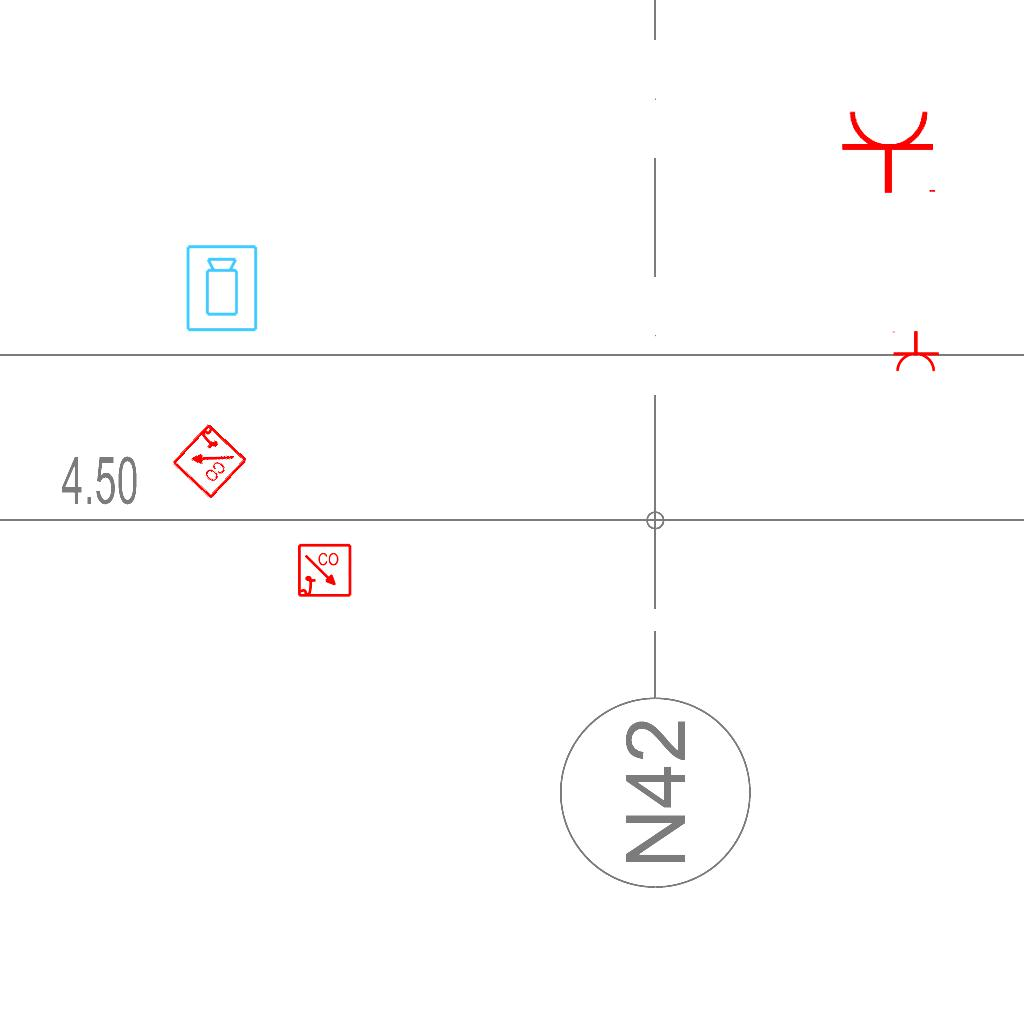KFO_Kamera_mit_Festobjektiv: (184, 243, 261, 334)
ROA_Rauchmelder_optisch_mit_Signalgeber_(Sockelsirene): (169, 421, 249, 501), (297, 543, 353, 599)
Schukosteckdose_einfach: (840, 108, 940, 195), (890, 330, 940, 373)
